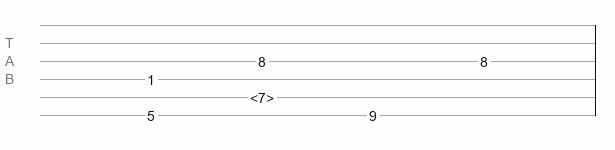1: (147, 72, 155, 82)
5: (147, 108, 155, 118)
8: (258, 54, 266, 64), (480, 54, 488, 64)
9: (369, 108, 377, 118)
harmonic: (250, 90, 274, 100)
